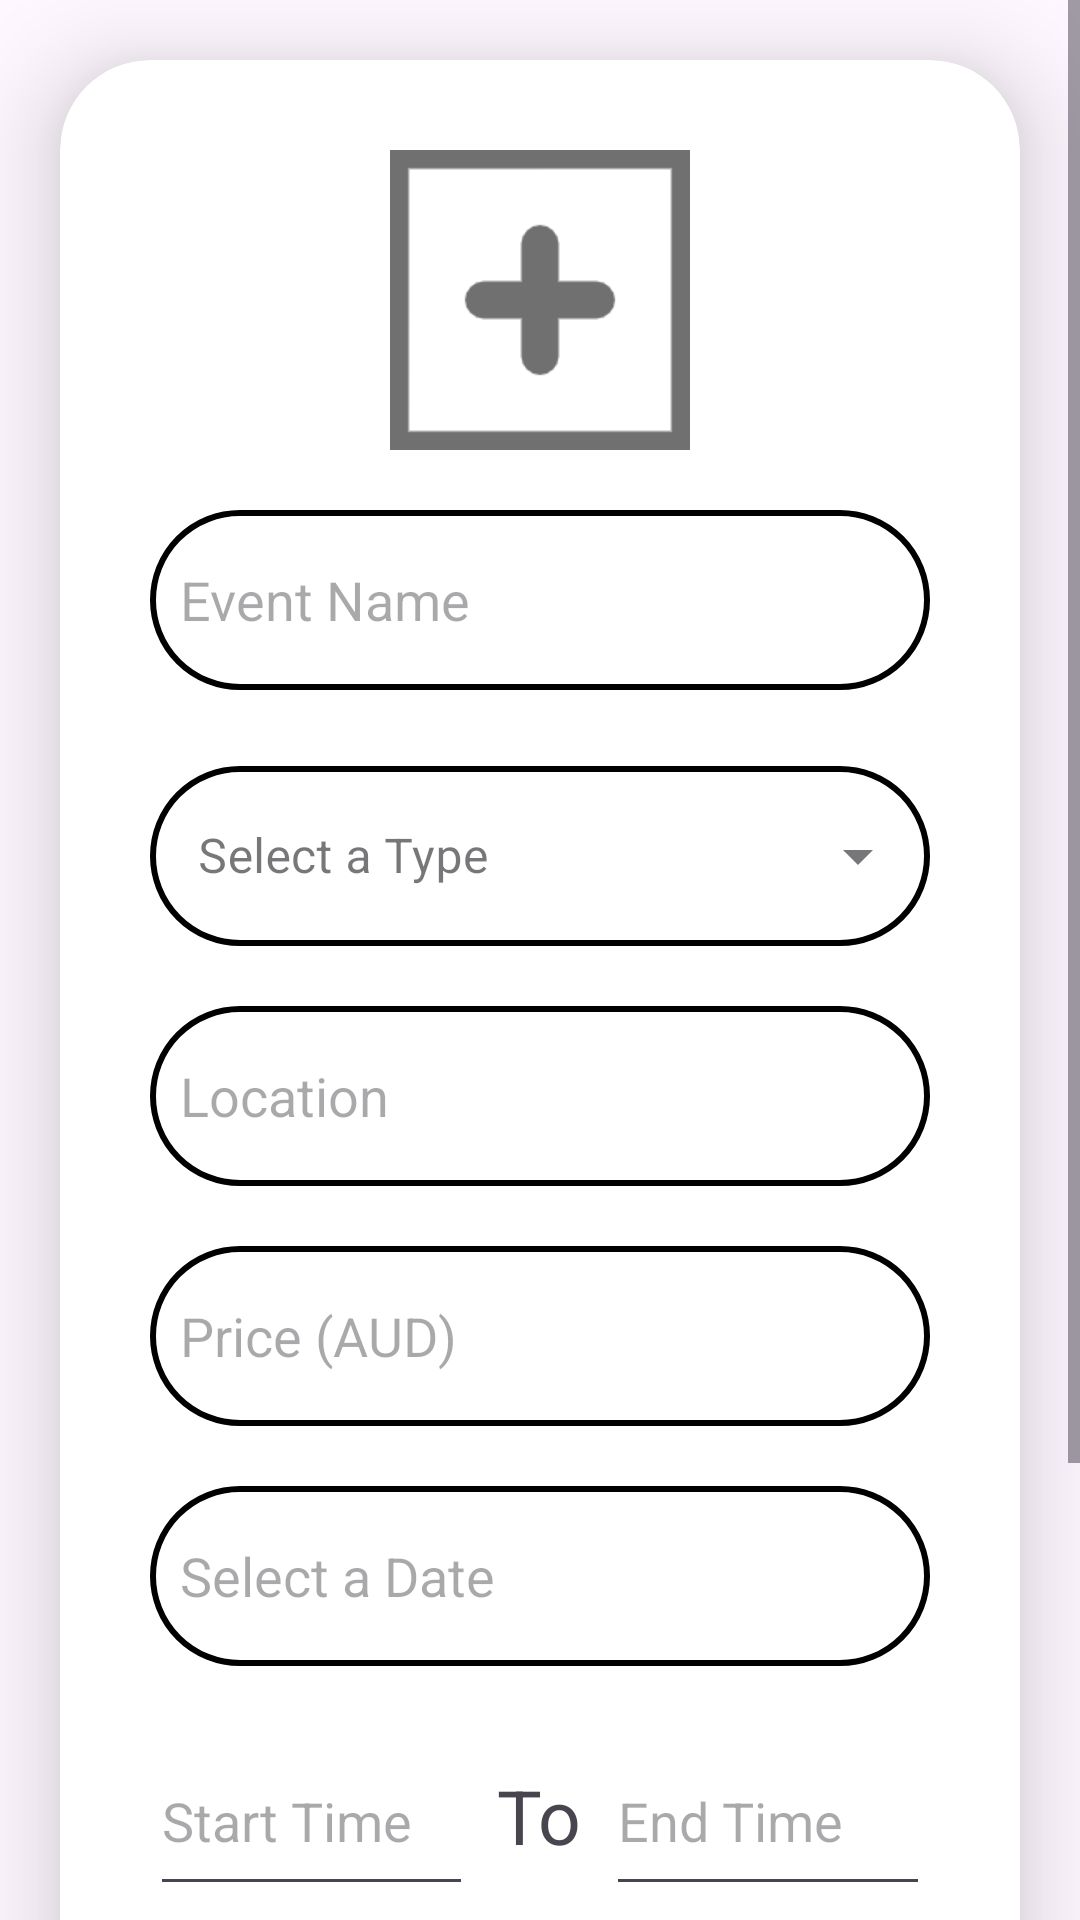

Named icons in this screenshot (1080px x 1920px) and their bounding boxes, (x1, y1, x2, y2):
add pic: (390, 150, 690, 450)
